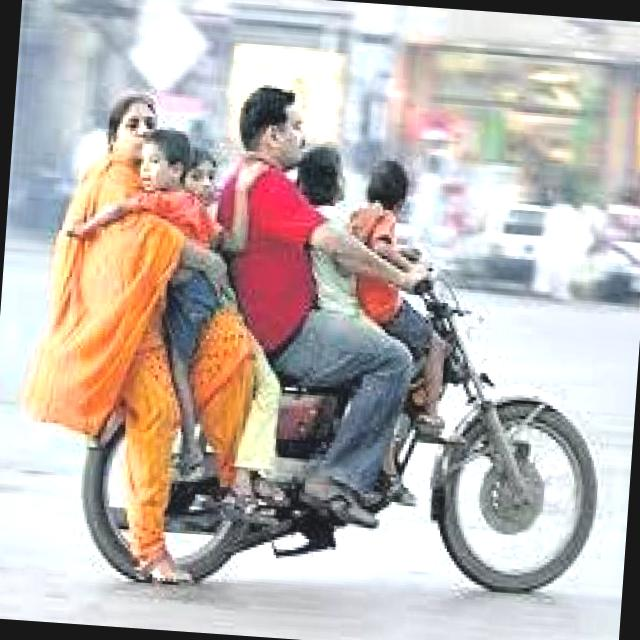motorcycle: (56, 253, 621, 619)
person: (198, 68, 368, 490), (60, 79, 202, 496), (266, 134, 397, 452), (341, 145, 476, 435), (90, 110, 208, 404), (176, 132, 253, 326)
rider_region: (51, 66, 634, 629)
